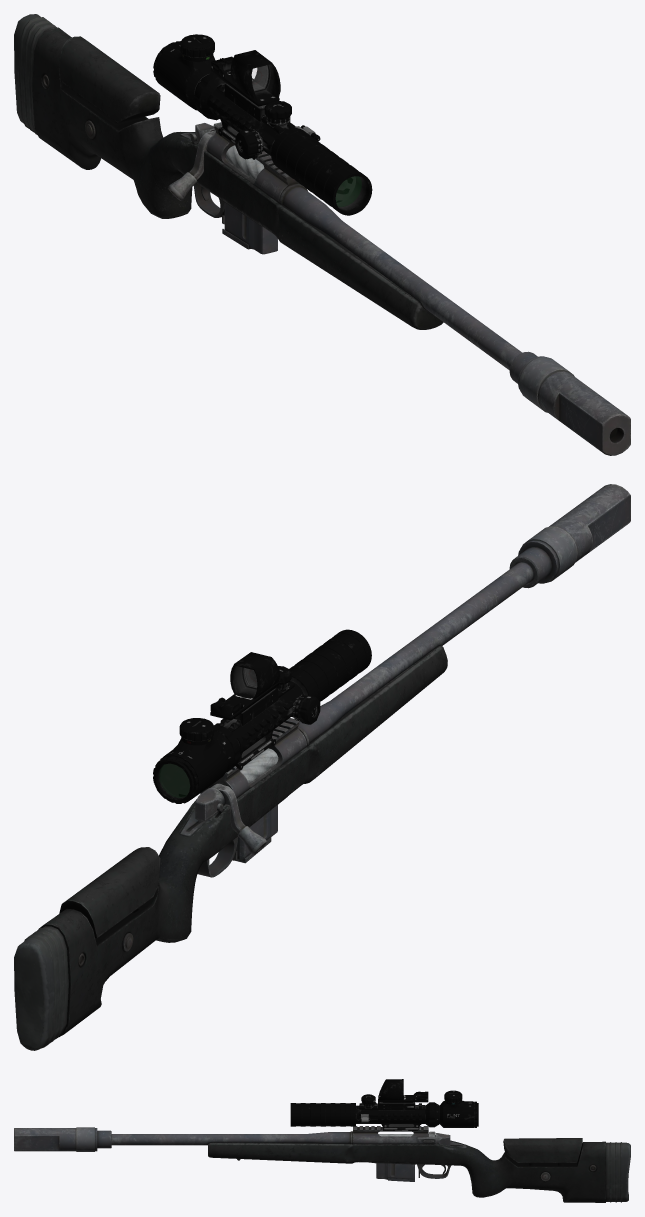
The picture shows the model from 3 angles, top to bottom: view 1: azimuth 30°, elevation 25°; view 2: azimuth 150°, elevation 25°; view 3: azimuth 270°, elevation 25°; orthographic projection. The views are drawn at different scales.
Visible parts, largest first — view 1: base, MainScope_Lowpoly, silencer, cheekrest, ExtraScope_Lowpoly, clip, bolt; view 2: base, MainScope_Lowpoly, silencer, cheekrest, ExtraScope_Lowpoly, bolt, clip, ScopeGlass_Lowpoly; view 3: base, MainScope_Lowpoly, silencer, cheekrest, ExtraScope_Lowpoly, clip.
Part boxes in pixels (x1,y1,x2,y2): base: (14,14,522,370); MainScope_Lowpoly: (153,34,372,215); silencer: (509,351,630,455); cheekrest: (59,36,160,123); ExtraScope_Lowpoly: (210,50,280,121); clip: (222,202,277,254); bolt: (168,130,264,200); base: (14,561,534,1050); MainScope_Lowpoly: (153,629,371,803); silencer: (509,484,630,588); cheekrest: (59,847,160,938); ExtraScope_Lowpoly: (210,652,280,725); bolt: (210,748,278,854); clip: (235,805,277,863); ScopeGlass_Lowpoly: (159,764,189,797); base: (111,1126,630,1202); MainScope_Lowpoly: (290,1090,478,1130); silencer: (14,1127,111,1151); cheekrest: (503,1138,582,1165); ExtraScope_Lowpoly: (378,1079,428,1109); clip: (376,1163,414,1181).
Bounding box in the file's own units: 65.97 × 185 × 858.
Materials: 4 (4 with a texture image).
